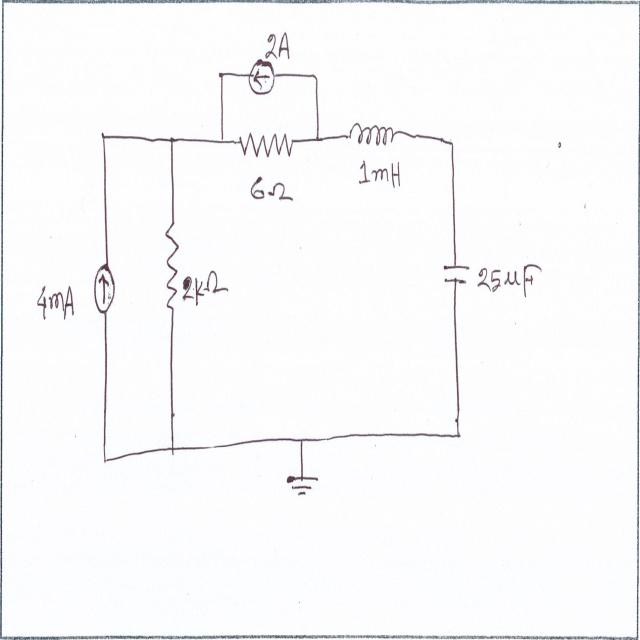capacitor: (440, 256, 472, 297)
current_source: (92, 254, 118, 320), (248, 52, 280, 103)
ground: (282, 466, 319, 507)
inductor: (342, 116, 400, 156)
resistor: (237, 125, 300, 167), (163, 215, 183, 321)
